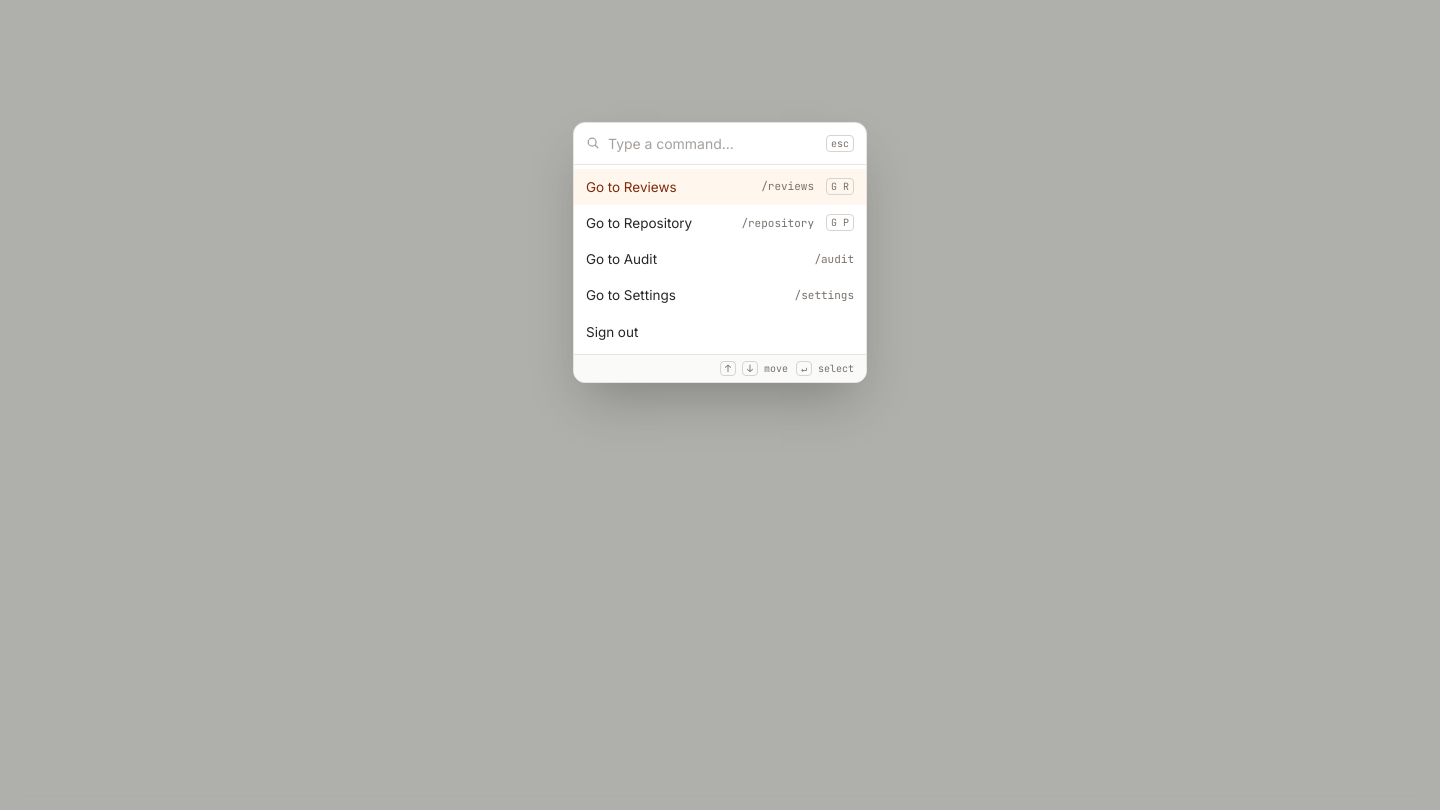
Test: CommandPalette — filtering › shows the no-matches state when nothing hits
Type "xyzzy" into the dropdown. click: (713, 143)
box: top-left (608, 132), bottom-right (818, 154)
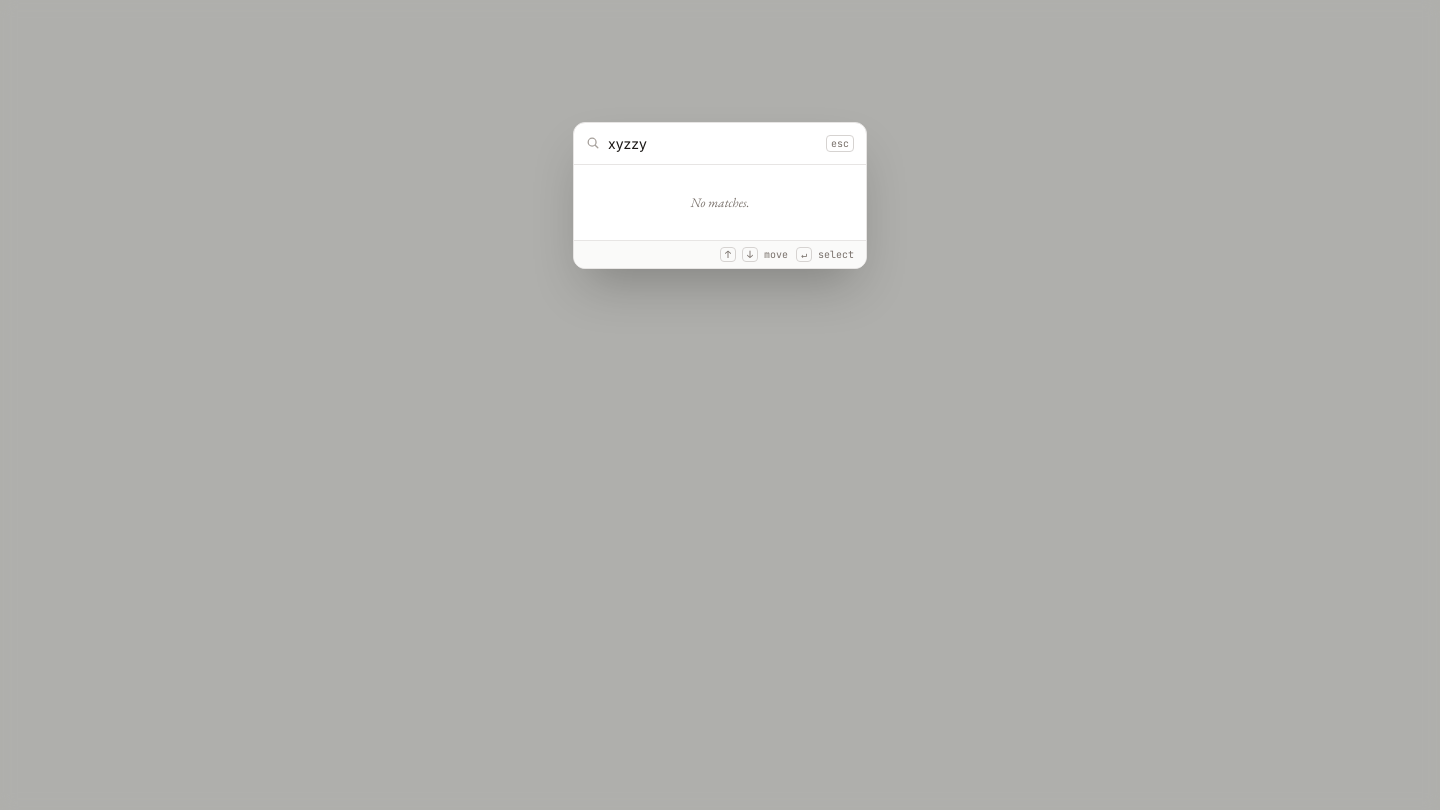
Expected: the option is gone
Expected: the list item "No matches." is shown, top-left (690, 194), bottom-right (750, 210)
